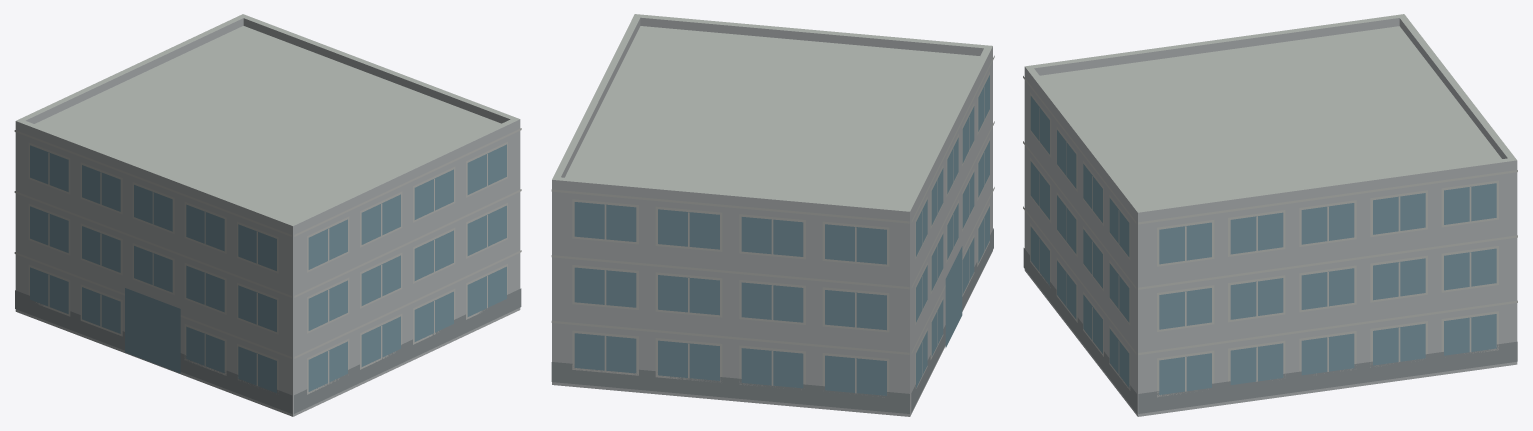
The model's file is public-56dc3dc9-2d2f-4a7e-9657-5430a6553349.glb.
3 views of the same model, side by side, from view 1: azimuth 30°, elevation 25°; view 2: azimuth 150°, elevation 25°; view 3: azimuth 270°, elevation 25° (orthographic). The views are drawn at different scales.
Visible parts, largest first — view 1: public-56dc3dc9-2d2f-4a7e-9657-5430a6553349; view 2: public-56dc3dc9-2d2f-4a7e-9657-5430a6553349; view 3: public-56dc3dc9-2d2f-4a7e-9657-5430a6553349.
Part boxes in pixels (left/top/right/bottom): public-56dc3dc9-2d2f-4a7e-9657-5430a6553349: left=14, top=14, right=521, bottom=416; public-56dc3dc9-2d2f-4a7e-9657-5430a6553349: left=551, top=14, right=994, bottom=416; public-56dc3dc9-2d2f-4a7e-9657-5430a6553349: left=1023, top=14, right=1517, bottom=416.
Bounding box in the file's own units: 19.23 × 9.15 × 20.14.
